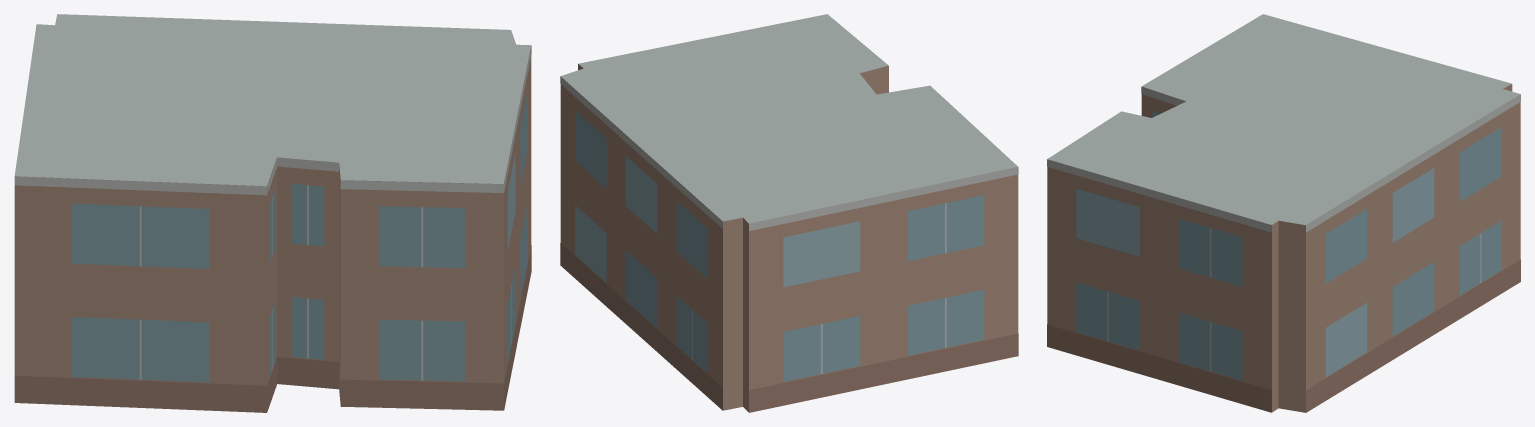
File: survey-upis-32984003.glb
3 views of the same model, side by side, from view 1: azimuth 30°, elevation 25°; view 2: azimuth 150°, elevation 25°; view 3: azimuth 270°, elevation 25° (orthographic). The views are drawn at different scales.
Visible parts, largest first — view 1: survey-upis-32984003.tmp; view 2: survey-upis-32984003.tmp; view 3: survey-upis-32984003.tmp.
Part boxes in pixels (box(x1,y1,x2,y2)): survey-upis-32984003.tmp: box(14, 14, 531, 412); survey-upis-32984003.tmp: box(560, 14, 1018, 412); survey-upis-32984003.tmp: box(1047, 14, 1520, 412).
Size of the model in its own units: 14.73 by 6.1 by 13.96.
